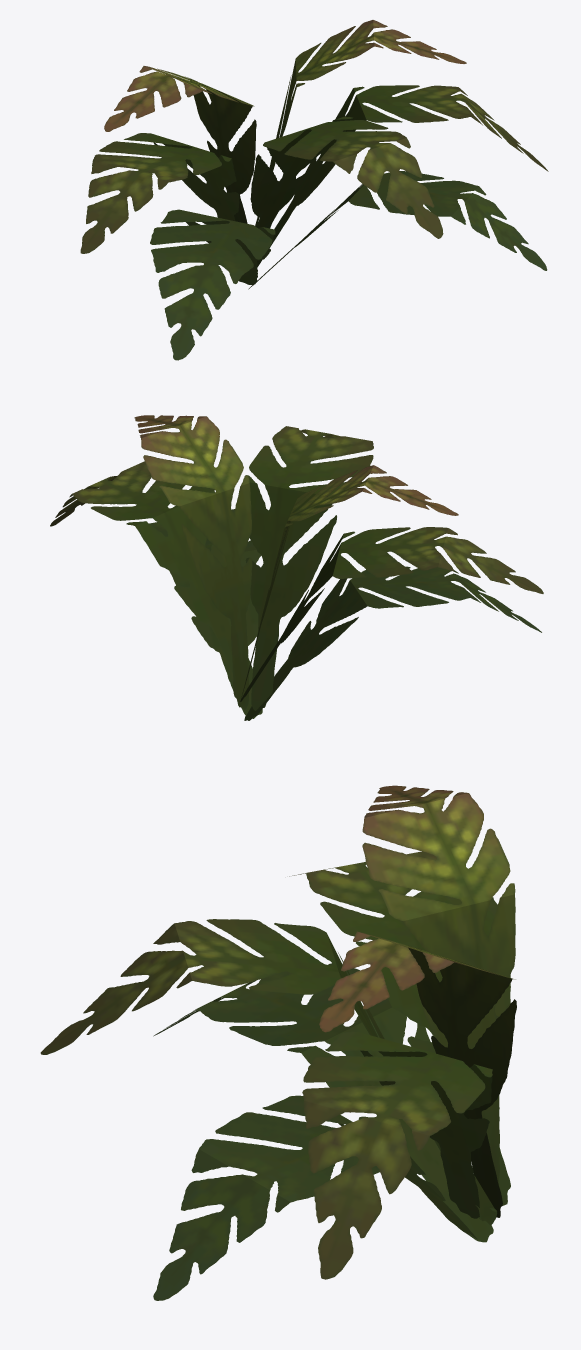
Rendered from broadleaf_05.fbx.
3 views of the same model, one above another, from view 1: azimuth 30°, elevation 25°; view 2: azimuth 150°, elevation 25°; view 3: azimuth 270°, elevation 25° (orthographic). The views are drawn at different scales.
Parts seen in each view (by area): view 1: obj0.082; view 2: obj0.082; view 3: obj0.082.
Boxes of the visible parts, x1,y1,x2,y2 form: obj0.082: (80,20,548,360); obj0.082: (50,415,543,720); obj0.082: (40,785,516,1300).
Bounding box in the file's own units: 2.9 × 1.35 × 1.78.
